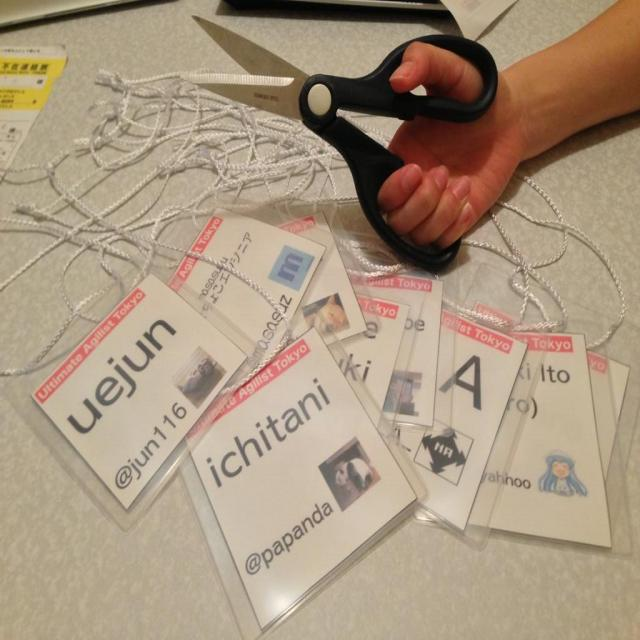scissor: (180, 11, 498, 274)
